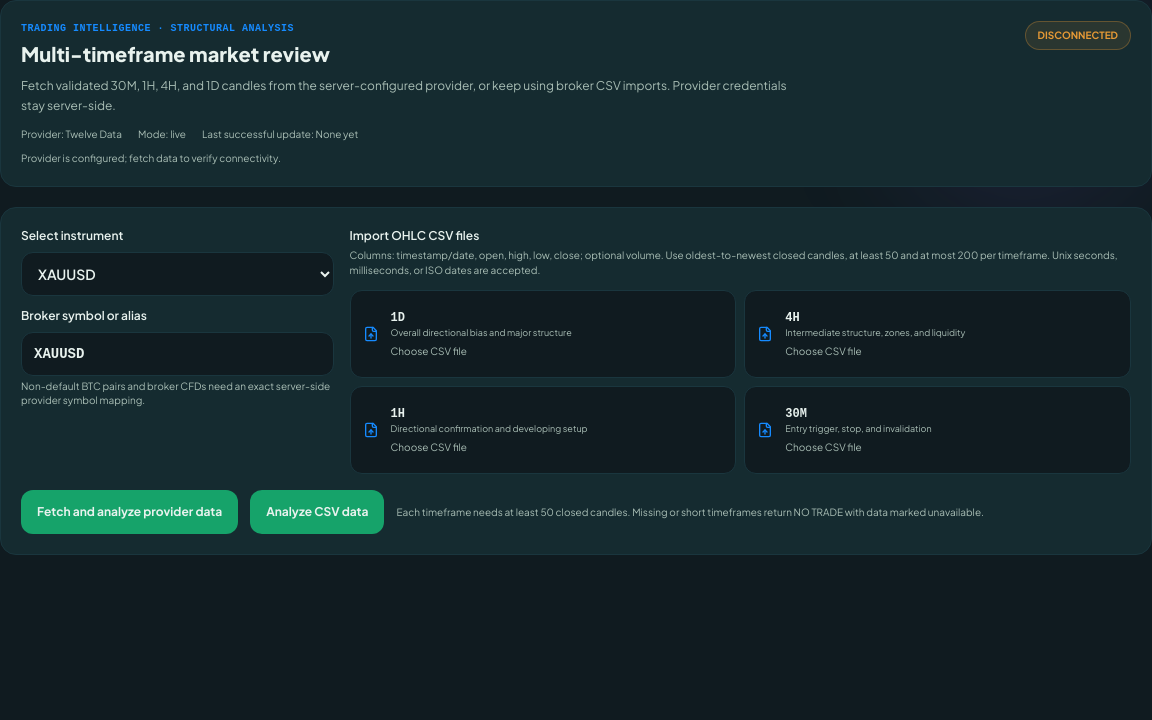
Test: TradingPage › does not let an older CSV response replace a newer provider analysis
Click the button with test id "button-analyze-market".
click(317, 512)  # box left=250, top=490, right=384, bottom=534
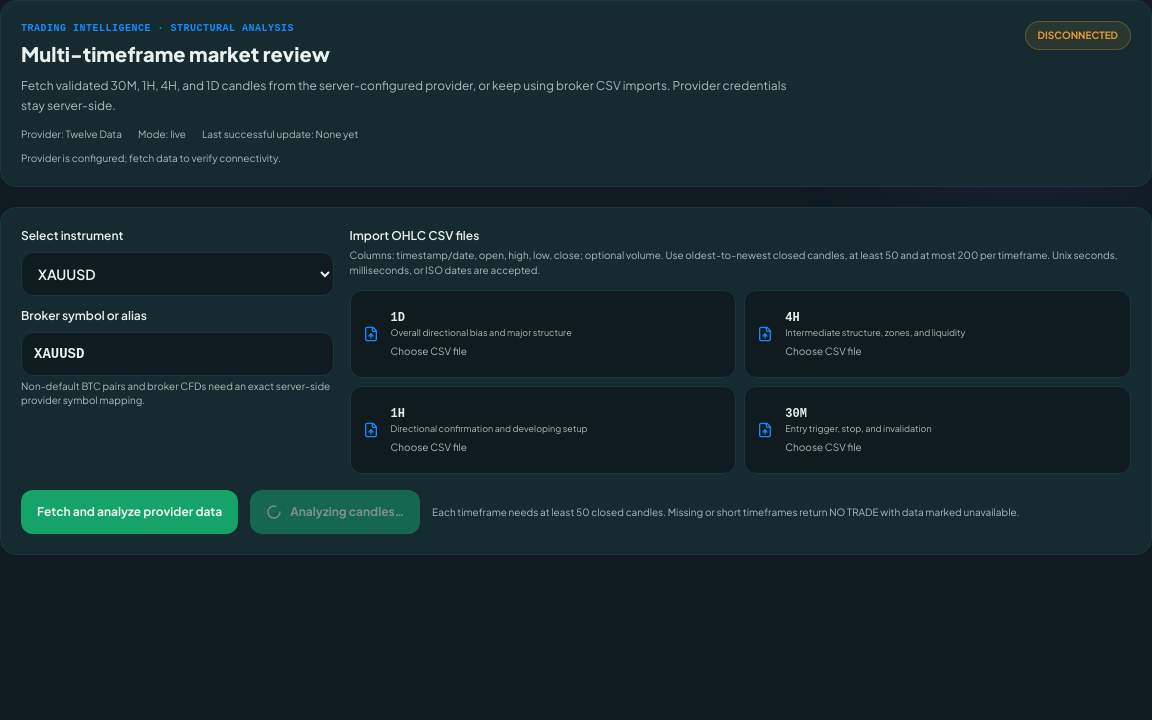
Click the button with test id "button-analyze-provider".
click(130, 512)  # box left=21, top=490, right=238, bottom=534
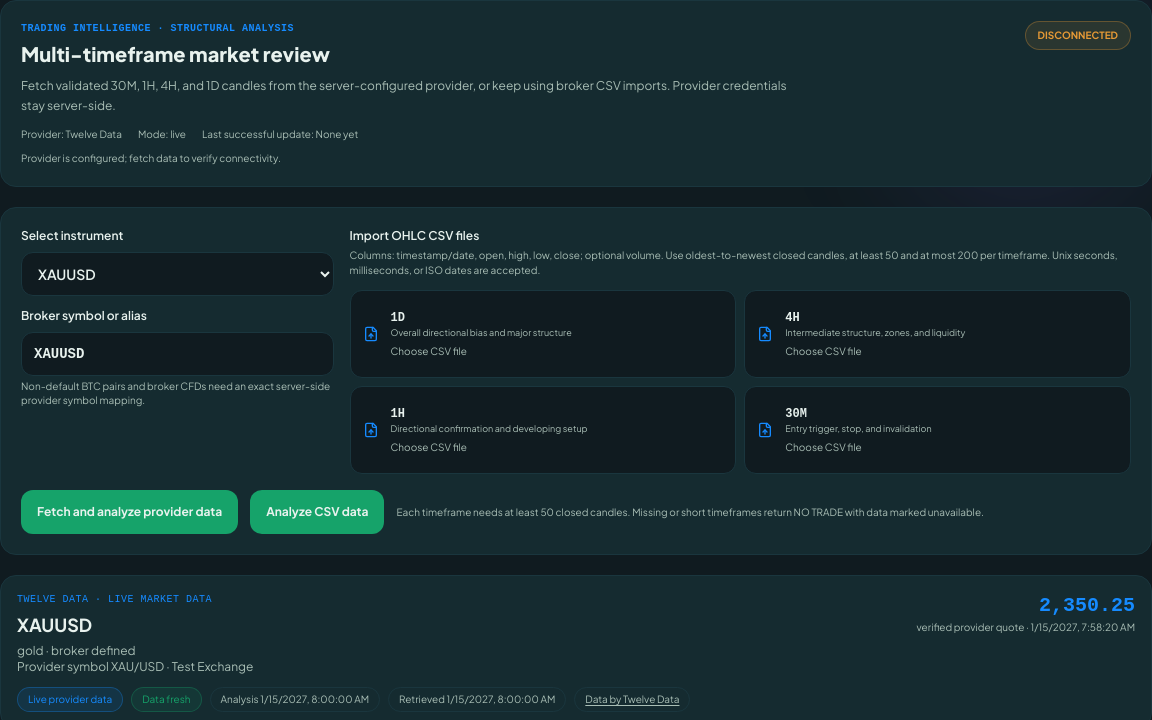
Expected: the text "Live provider data" is shown, left=17, top=687, right=123, bottom=712
